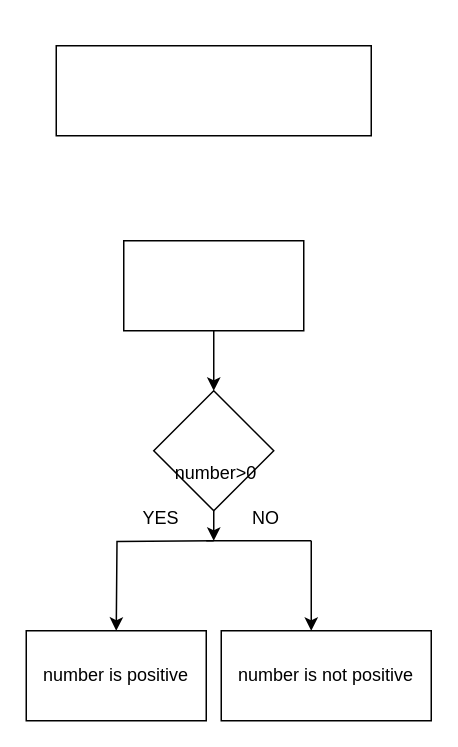
This 458x747 diagram has some shape labels left out. The centre of each missing label's shape, as x and y in pixels:
"Create a flowchart to check whether a number is positive." belongs at [213,90].
"Set number = 76" belongs at [213,285].
